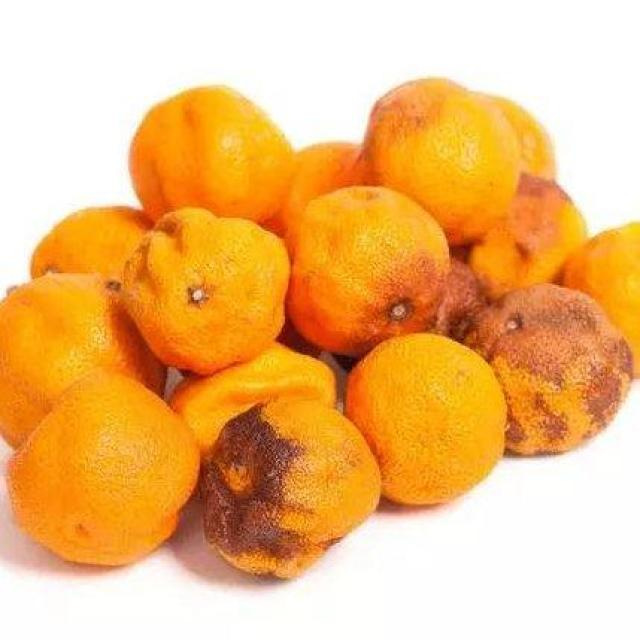organic: (0, 76, 640, 583)
